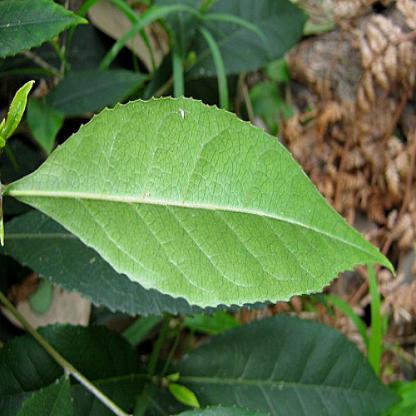blueberry leaf: (14, 90, 406, 313)
